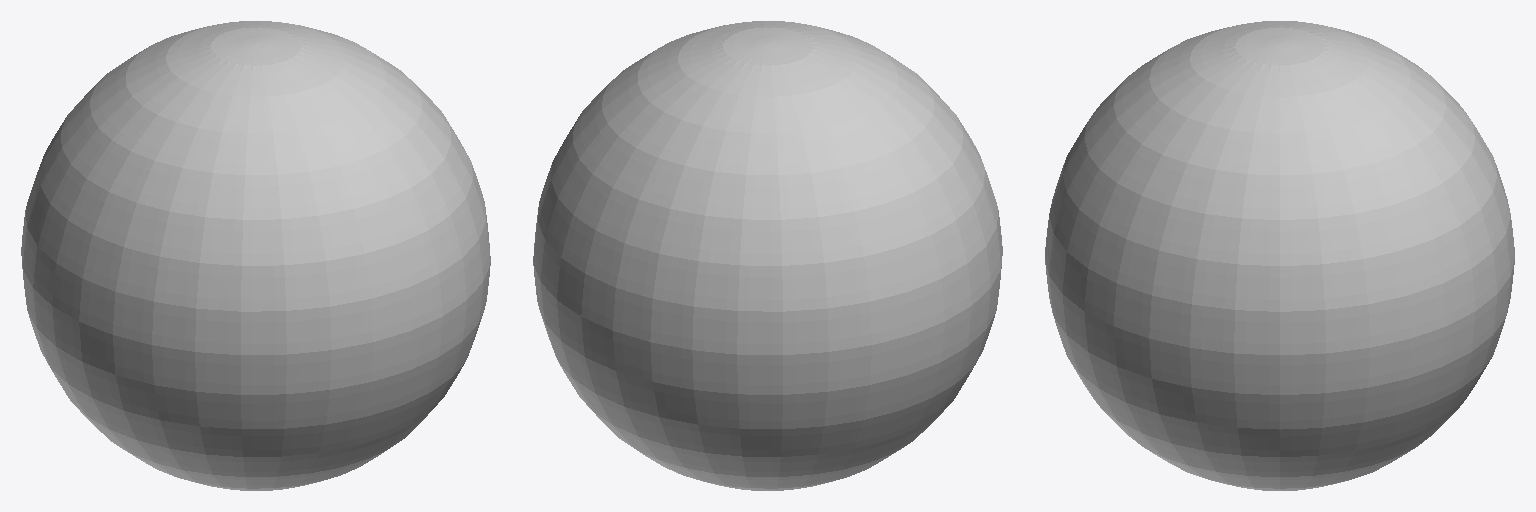
Rendered from kugel.obj.
3 renders of one model, left to right at view 1: azimuth 30°, elevation 25°; view 2: azimuth 150°, elevation 25°; view 3: azimuth 270°, elevation 25°, orthographic.
Visible parts, largest first — view 1: Sphere; view 2: Sphere; view 3: Sphere.
Boxes of the visible parts, x1=… form: Sphere: x1=21, y1=21, x2=490, y2=490; Sphere: x1=533, y1=21, x2=1002, y2=490; Sphere: x1=1045, y1=21, x2=1514, y2=490.
Size of the model in its own units: 2 by 2 by 2.